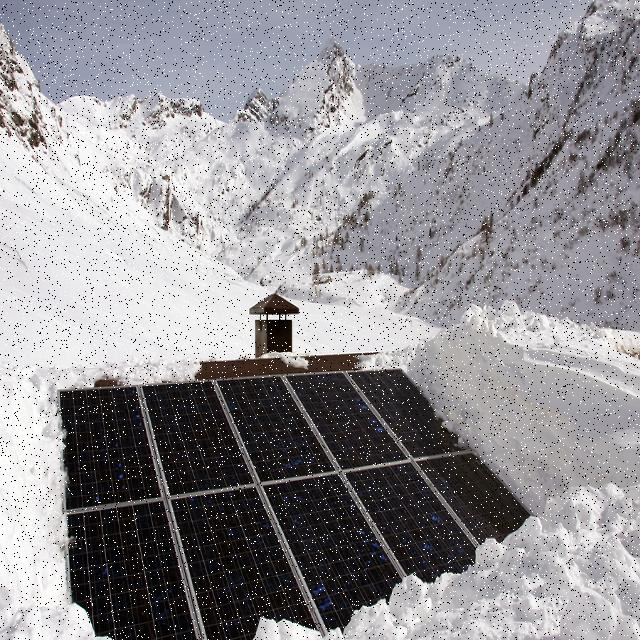snow covered: (268, 453, 554, 640)
